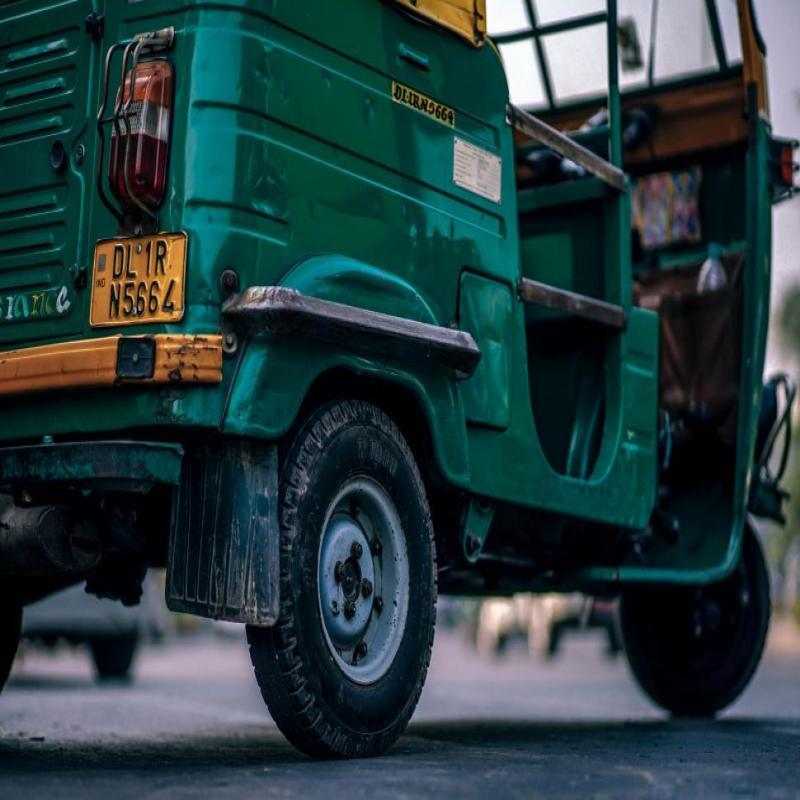bike: (9, 18, 750, 699)
